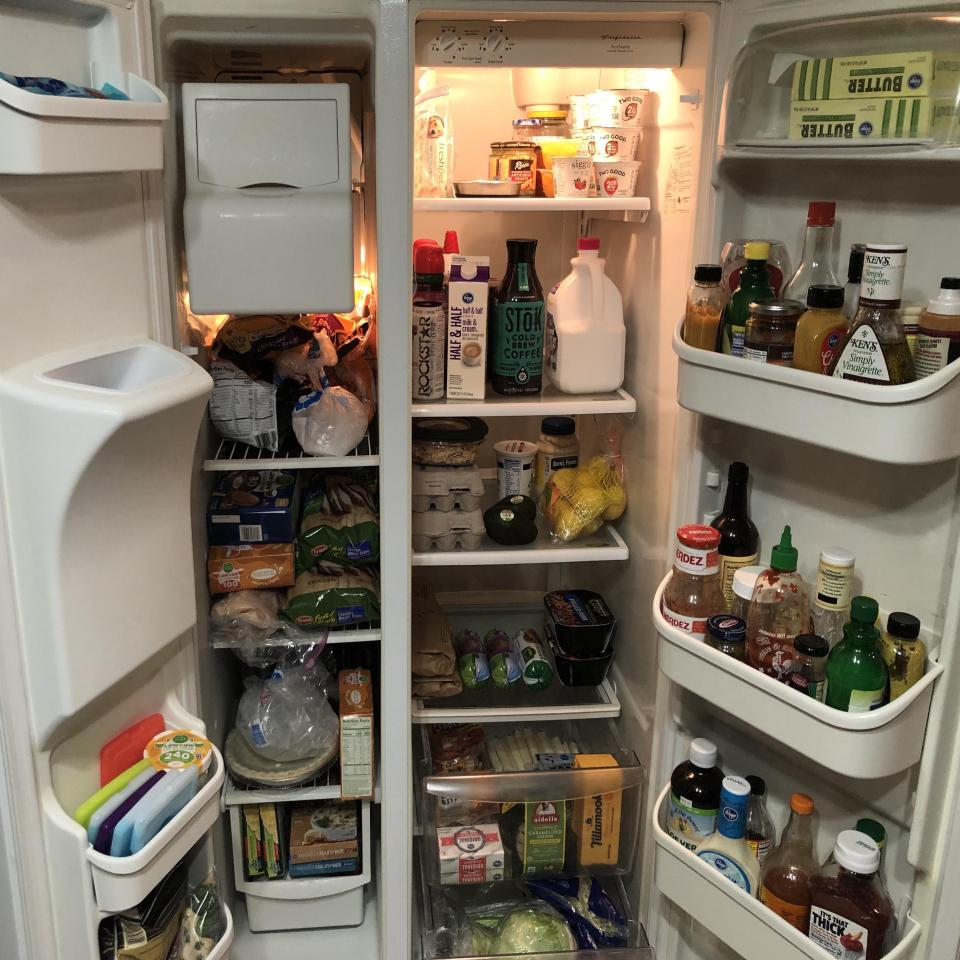Aguacate: (484, 507, 538, 545), (491, 494, 537, 521)
Huevos: (412, 466, 485, 512), (413, 512, 485, 552)
Leche: (544, 238, 626, 393)
Lechuga/Endivia: (494, 906, 578, 960)
Limón: (603, 484, 628, 520), (574, 489, 604, 515), (550, 468, 574, 493)
Mantequilla: (789, 50, 960, 100), (788, 98, 960, 142)
Yogur: (492, 440, 539, 497)
